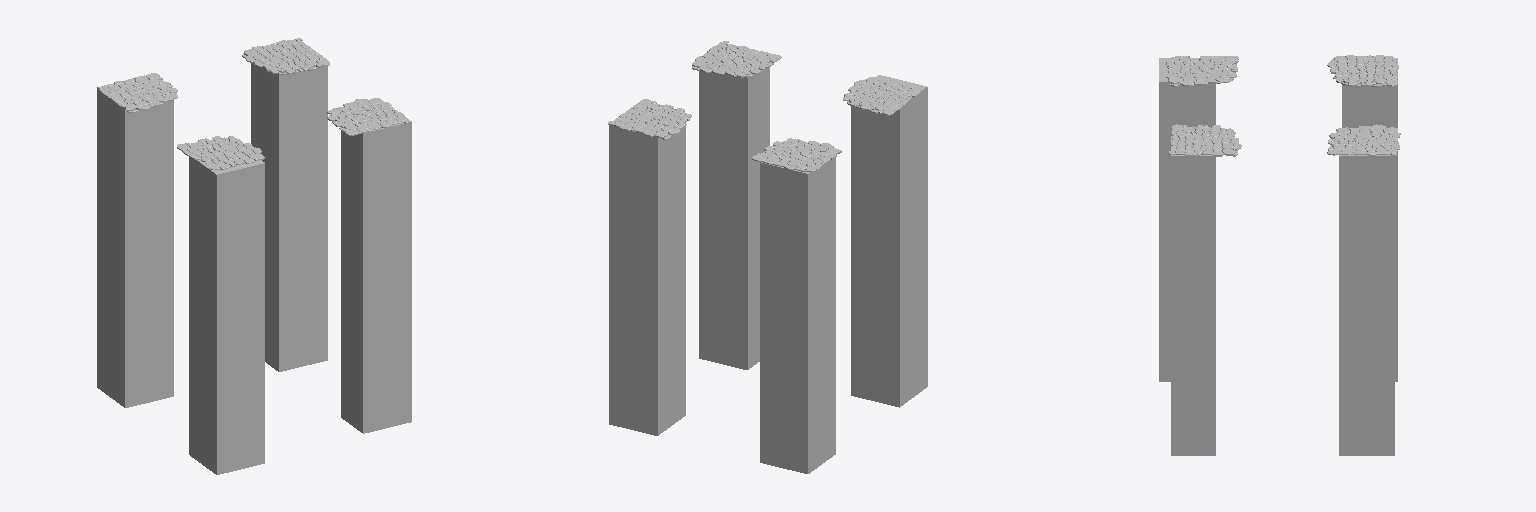
File: floorPrison.obj
The picture shows the model from 3 angles: view 1: azimuth 30°, elevation 25°; view 2: azimuth 150°, elevation 25°; view 3: azimuth 270°, elevation 25°; orthographic projection.
Visible parts, largest first — view 1: prisonFloor; view 2: prisonFloor; view 3: prisonFloor.
Part boxes in pixels (x1,y1,x2,y2): prisonFloor: (97,38,411,474); prisonFloor: (608,41,927,473); prisonFloor: (1159,55,1400,455).
Size of the model in its own units: 122 by 171 by 124.